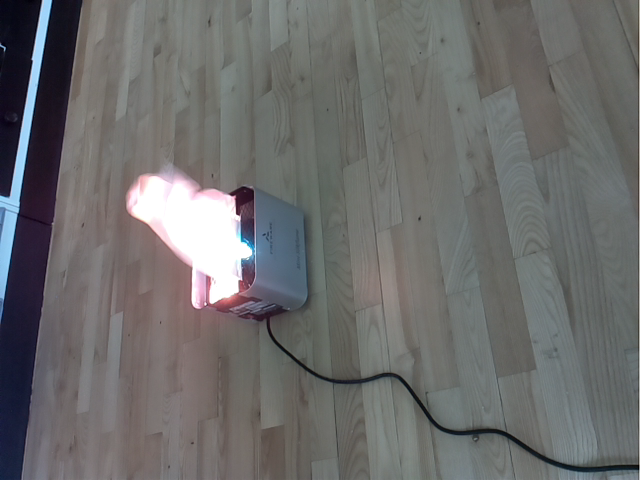fire: (125, 163, 241, 293)
